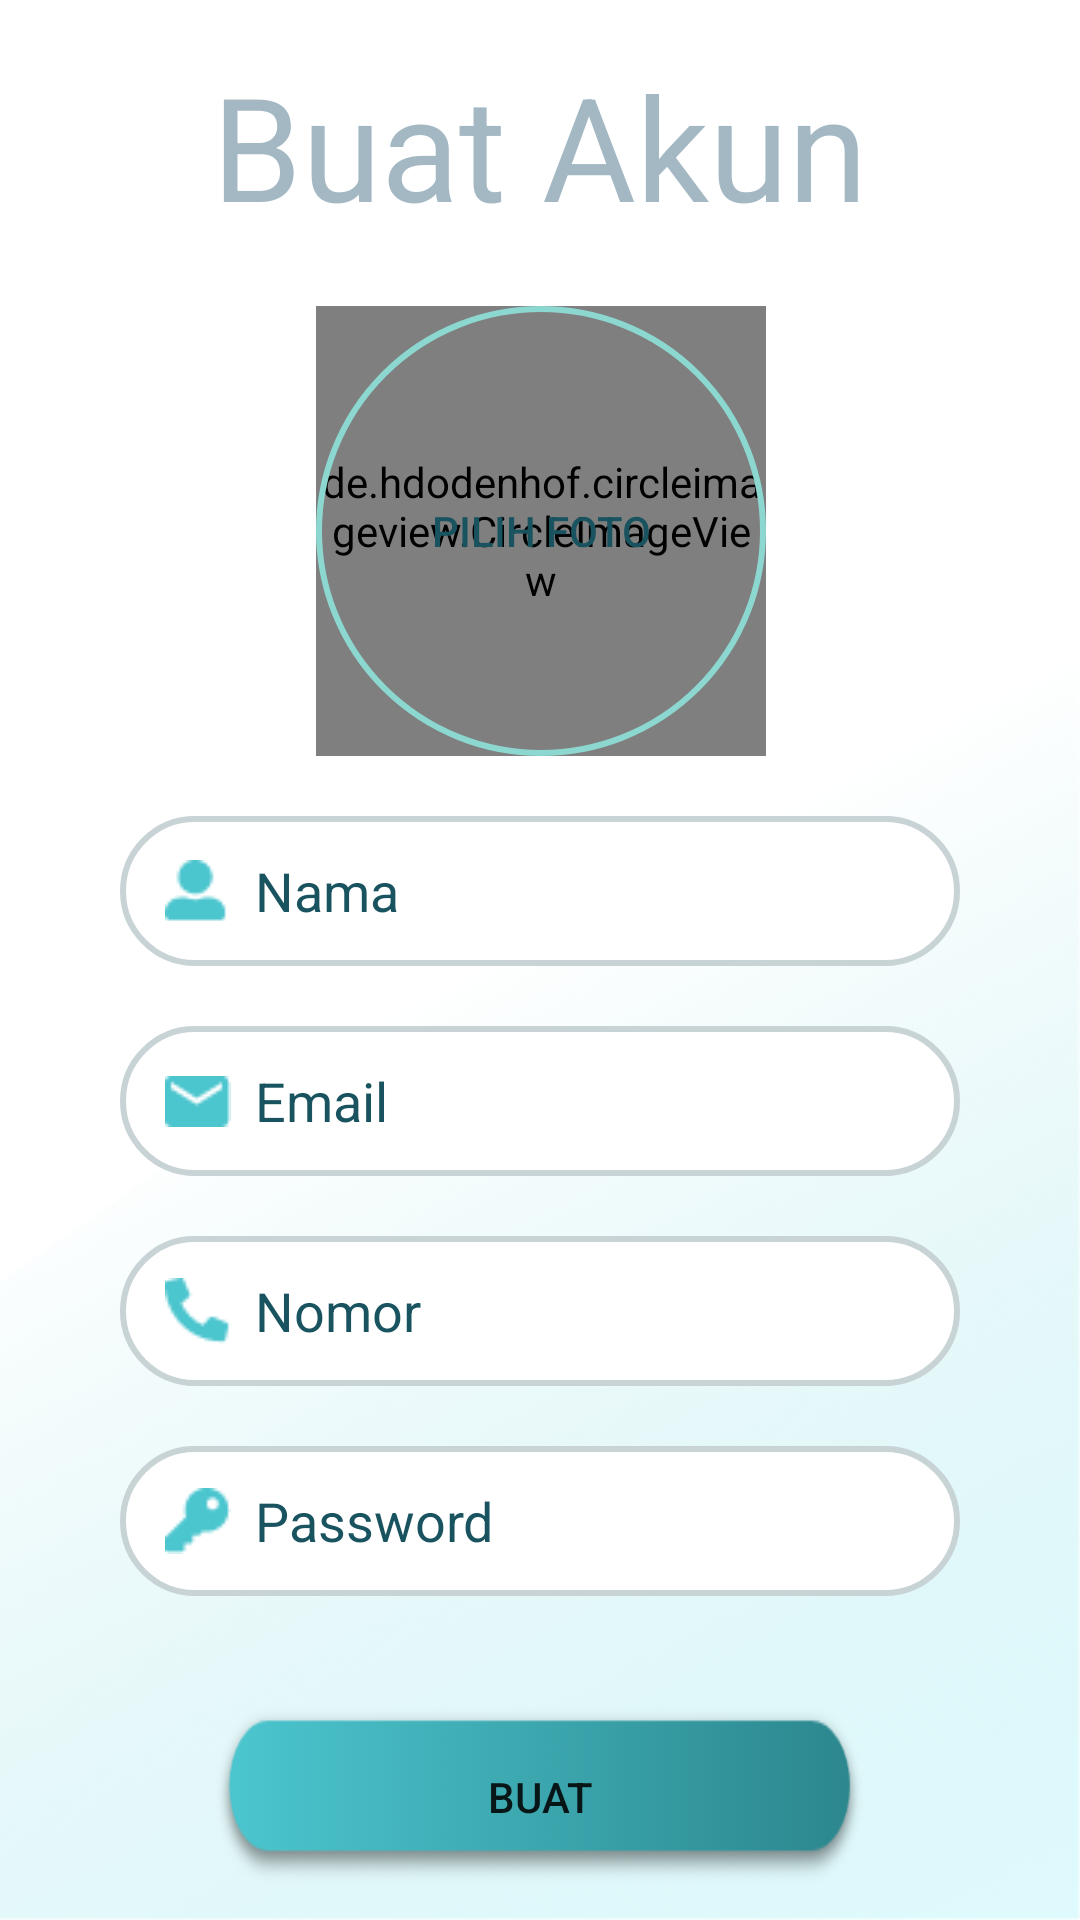

Icons on this 1080w x 1920h Android screen, each with the point to tap as [x,y]:
register pass: [198,1521]
register telp: [197,1310]
register users: [195,890]
